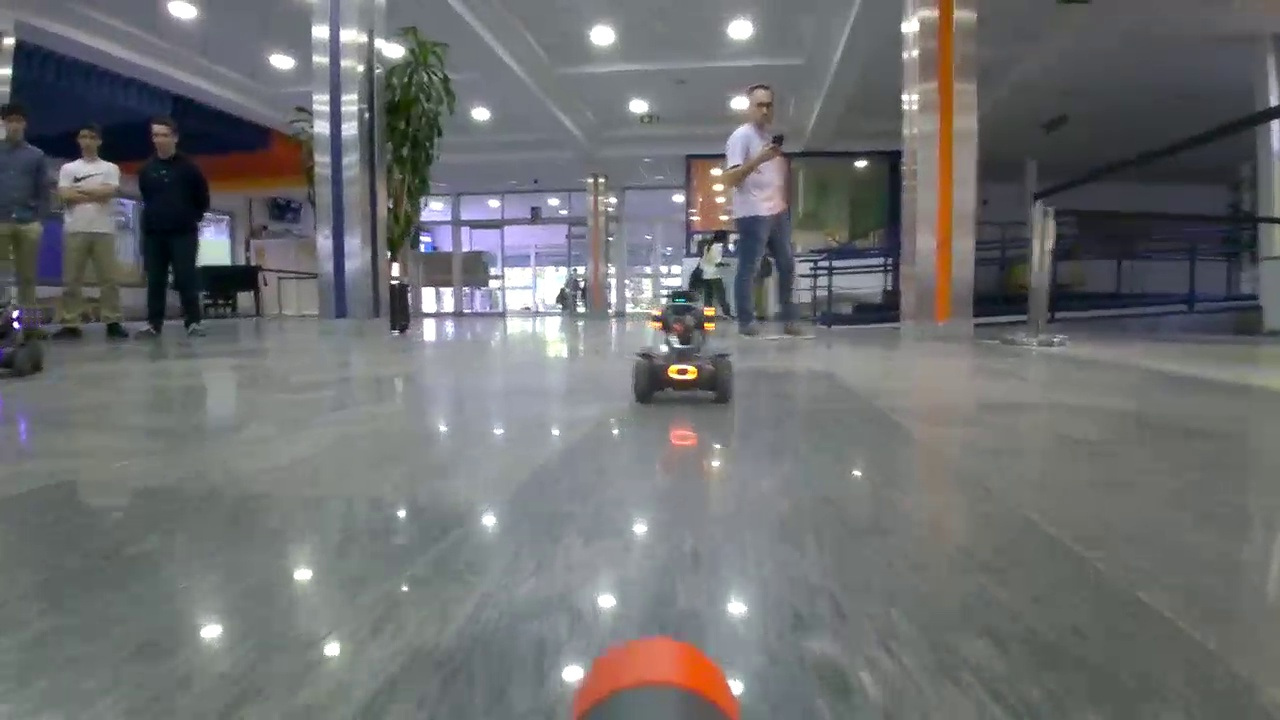robot: (632, 291, 734, 403), (1, 302, 48, 379)
